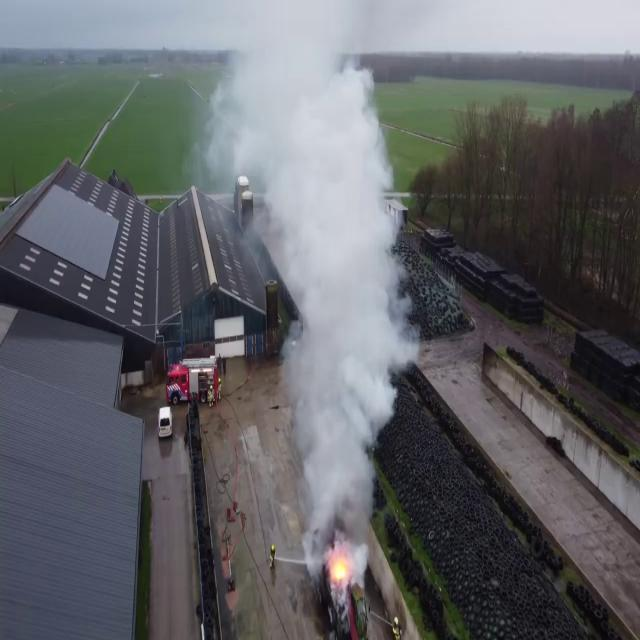Fire: (328, 543, 352, 592)
Smoke: (212, 1, 422, 574)
